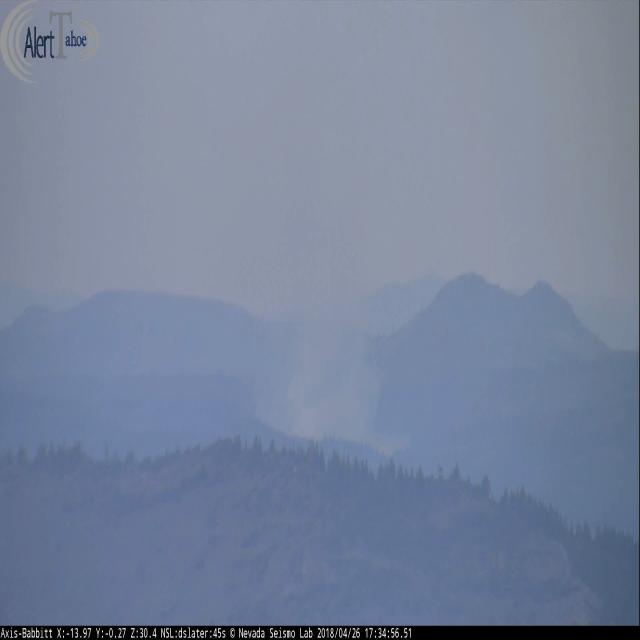smoke: (261, 254, 412, 457)
